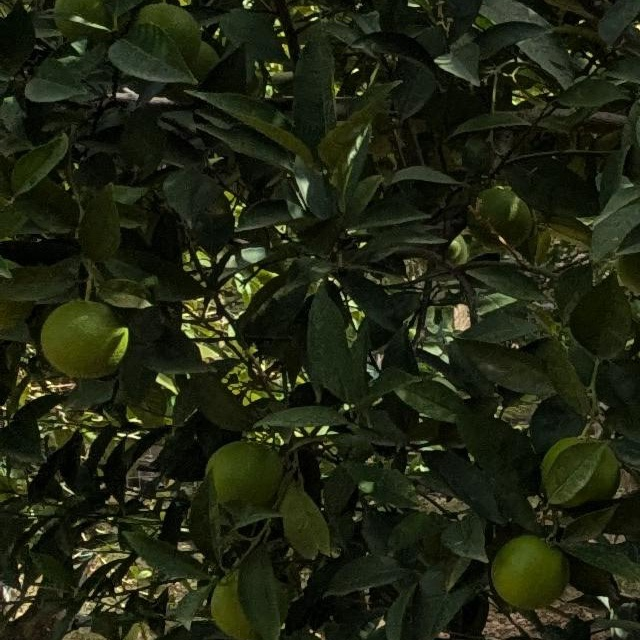orange: (527, 424, 629, 530), (26, 293, 132, 377), (201, 443, 285, 533), (205, 576, 307, 640), (497, 537, 557, 627), (465, 183, 541, 241)
